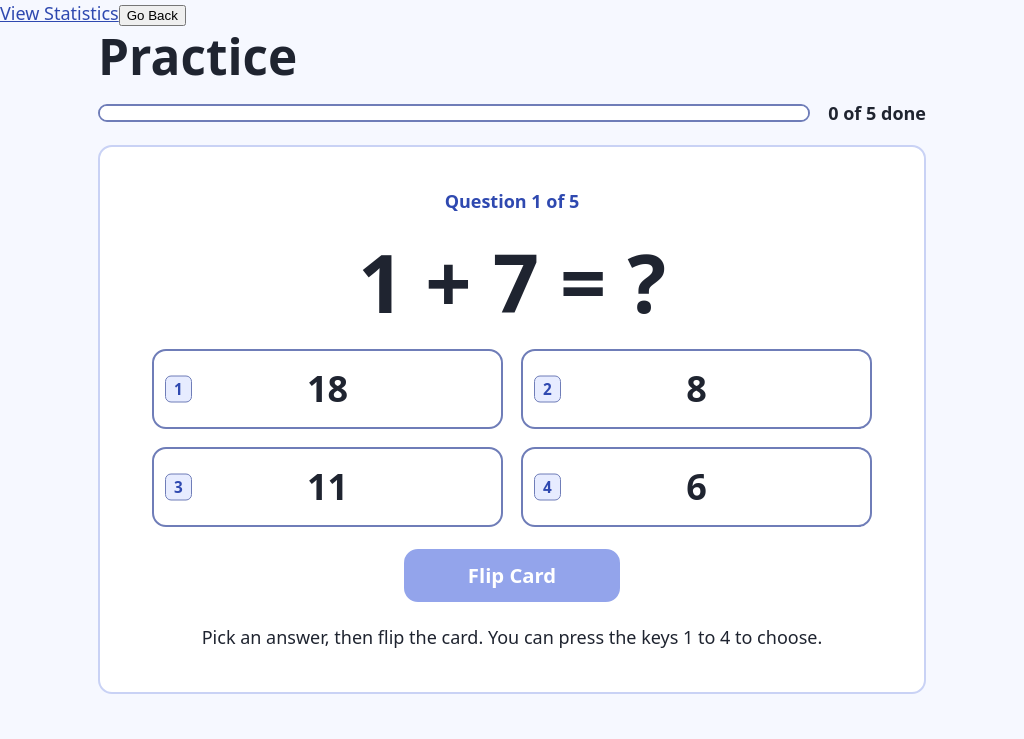
choosing to carry on › Escape does the same as Keep Practicing
This screenshot has width=1024, height=739.
Click the link "View Statistics" at (59, 13), box 0,1 -> 119,25
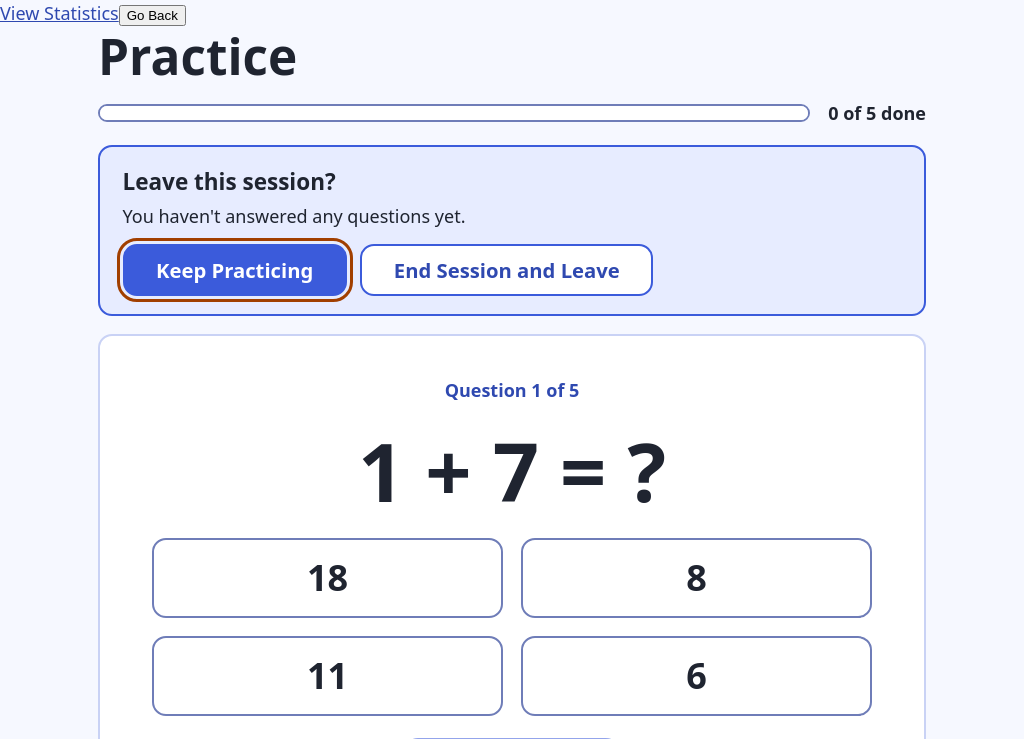
Press Escape
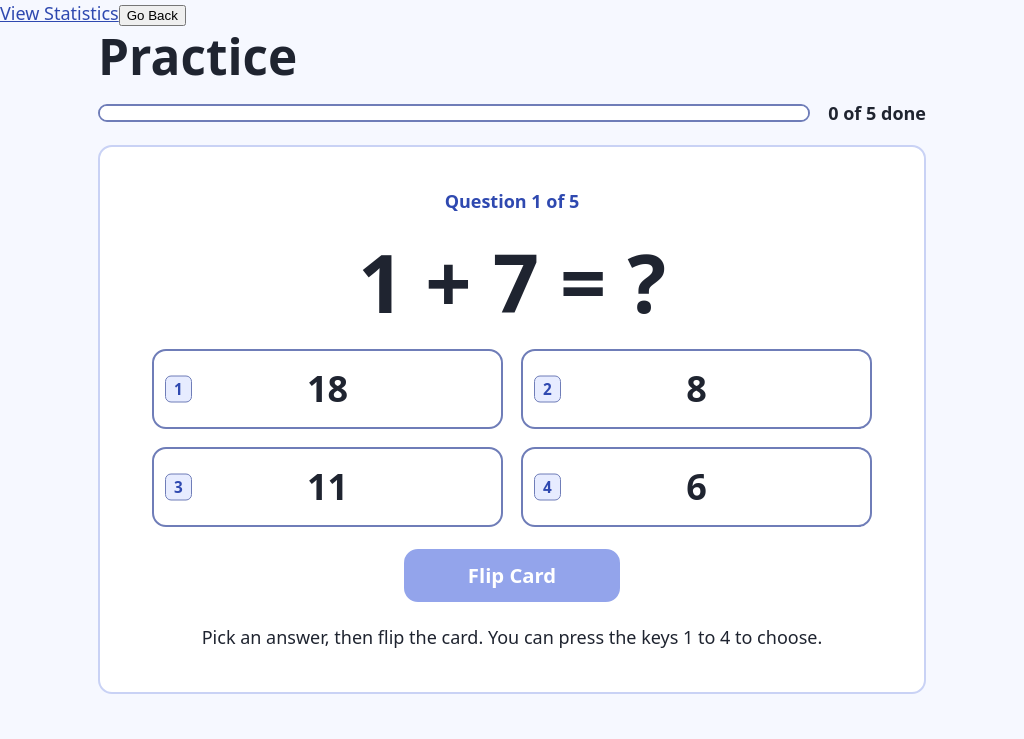
expect the dialog is gone: met
